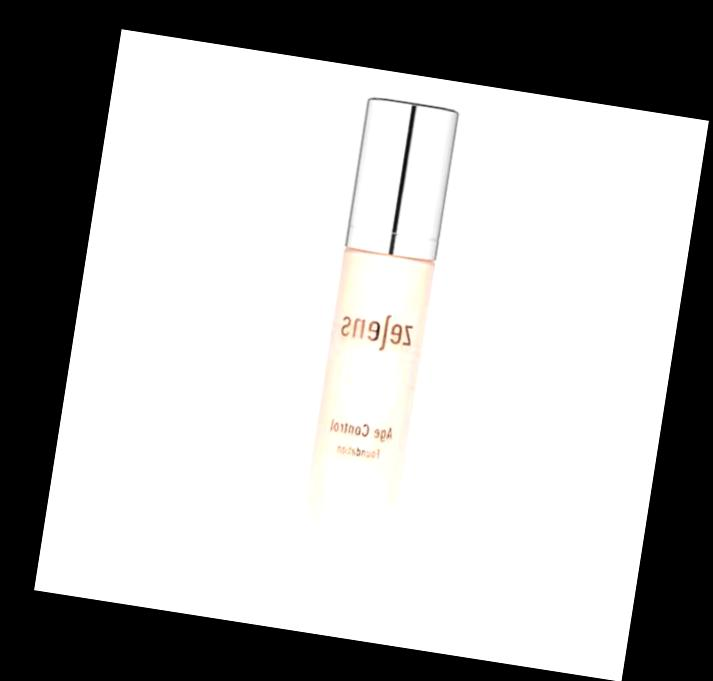cosmetic: (284, 93, 460, 624)
